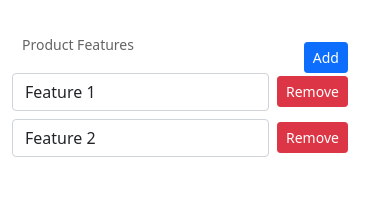
Scenario: ProductMultiInput.vue › adds an empty input field when "Add" button is clicked
Step 1. Click the button "Add" → (326, 57), box [304, 42, 348, 72]
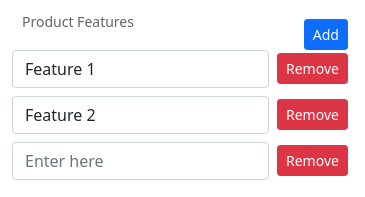
Check: the number of fields is 3, box [12, 50, 269, 88]; [12, 96, 269, 134]; [12, 142, 269, 180]
Check: the field with placeholder "Enter here" is empty, box [12, 142, 269, 180]
